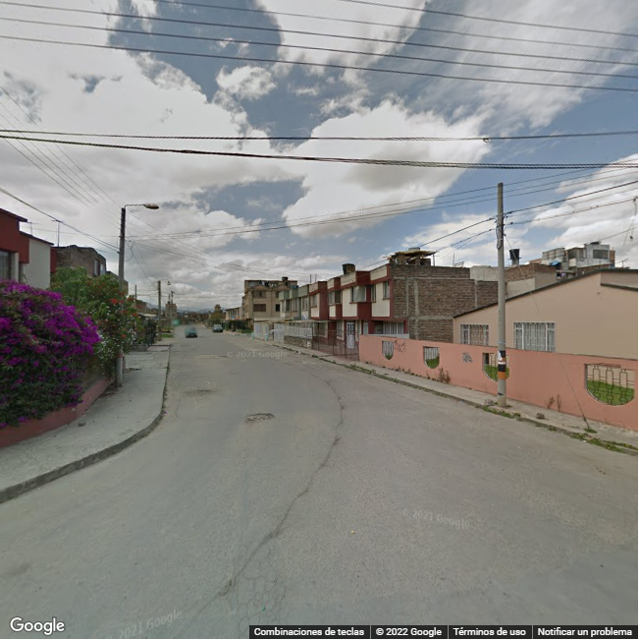D20: (224, 536, 295, 620)
